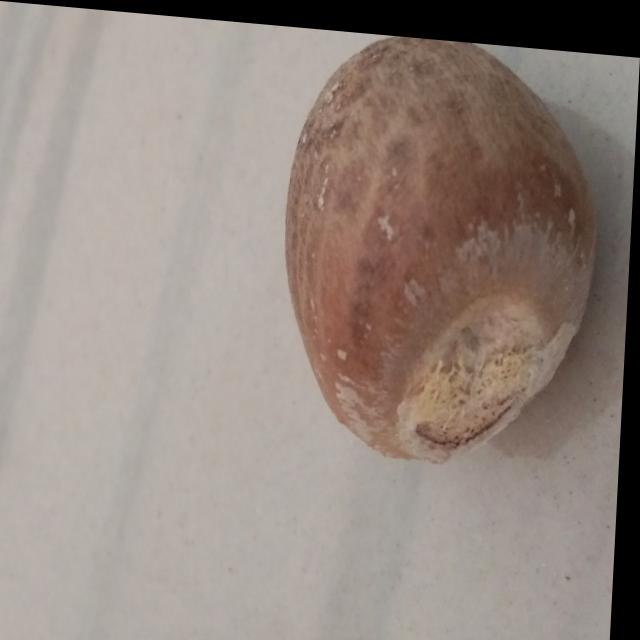good: (266, 20, 621, 499)
